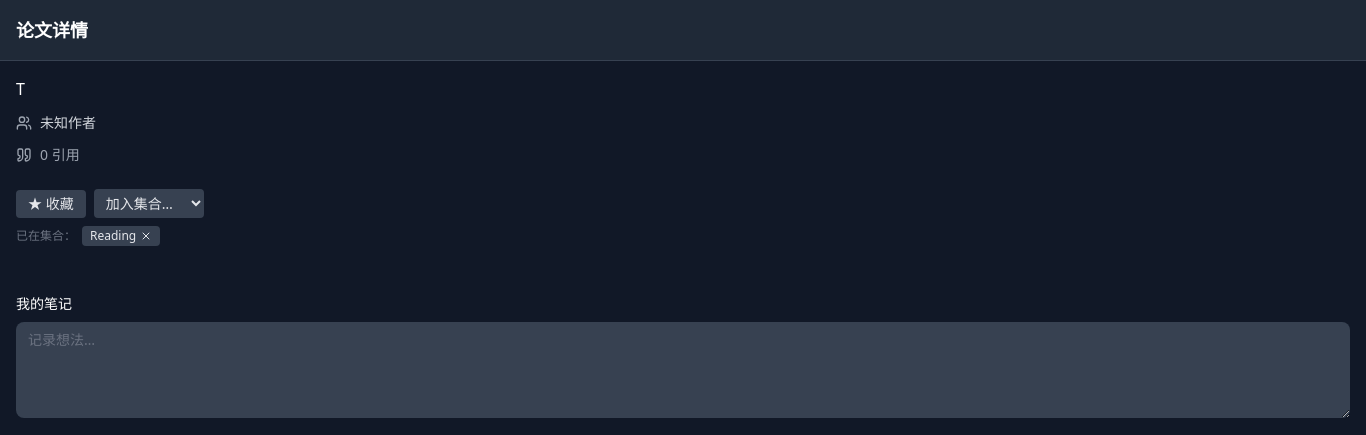
Test: DetailsPanel notes › says so instead of silently re-adding a paper already in the collection
The image size is (1366, 435).
Select "Reading" in the dropdown named "加入集合" at [149, 204], box [94,189,204,218]
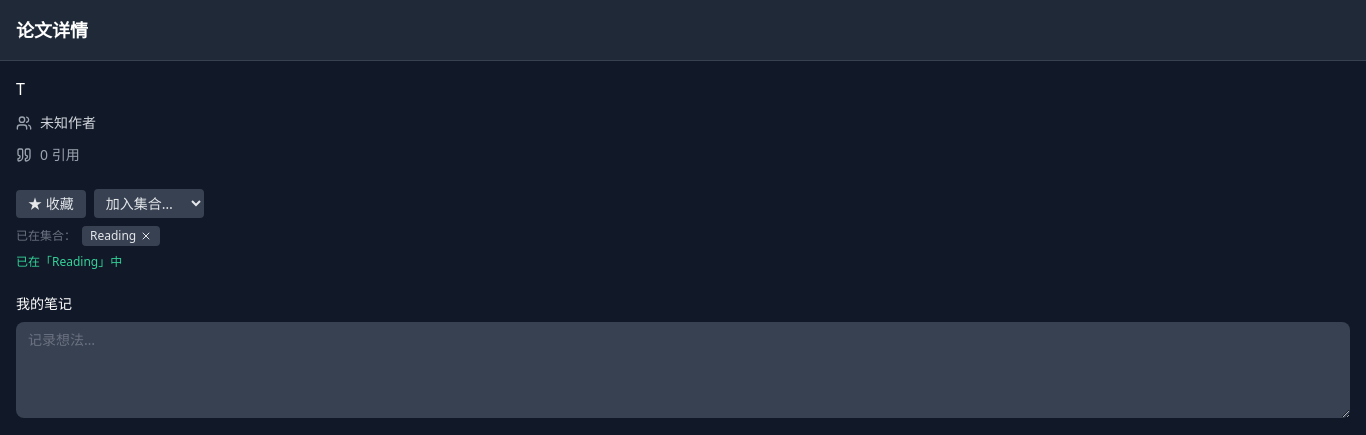
Now the text "已在「Reading」中" is shown, box [16,253,122,270]
